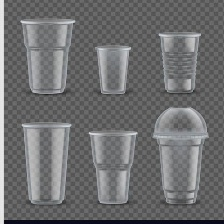glass: (151, 103, 211, 208), (16, 14, 79, 98), (21, 118, 75, 208), (85, 125, 138, 207), (156, 28, 202, 95), (91, 41, 133, 97)
